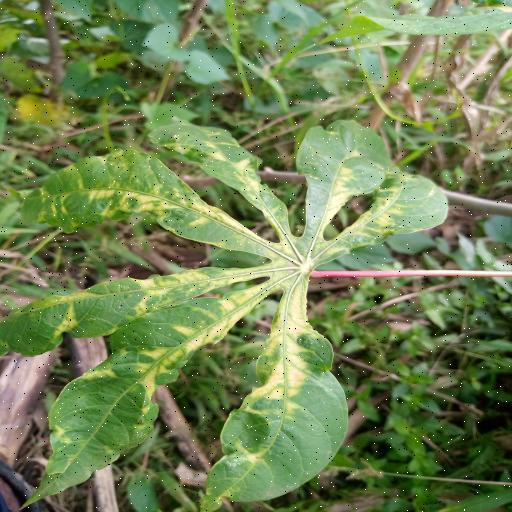Cassava_Mosaic: (0, 103, 448, 512)
